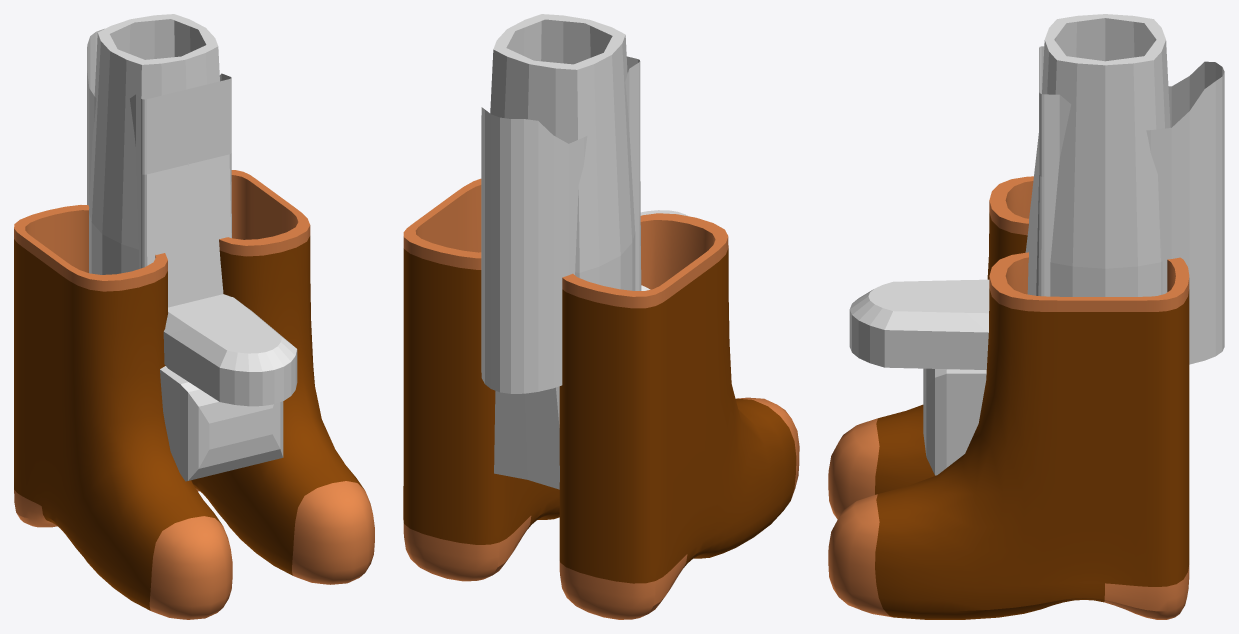
Rendered from cowboyBoots2.fbx.
3 views of the same model, side by side, from view 1: azimuth 30°, elevation 25°; view 2: azimuth 150°, elevation 25°; view 3: azimuth 270°, elevation 25° (orthographic). The views are drawn at different scales.
Visible parts, largest first — view 1: Cube.002, Circle, Cube; view 2: Cube.002, Cube, Circle; view 3: Cube.002, Cube, Circle.
Boxes of the visible parts, box(x1,y1,x2,y2) form: Cube.002: box(14, 170, 374, 619); Circle: box(87, 28, 297, 406); Cube: box(89, 14, 283, 481); Cube.002: box(403, 178, 799, 619); Cube: box(490, 14, 635, 489); Circle: box(481, 56, 687, 393); Cube.002: box(828, 176, 1189, 619); Cube: box(923, 14, 1170, 475); Circle: box(849, 46, 1224, 369).
Size of the model in its own units: 251 by 493 by 332.
